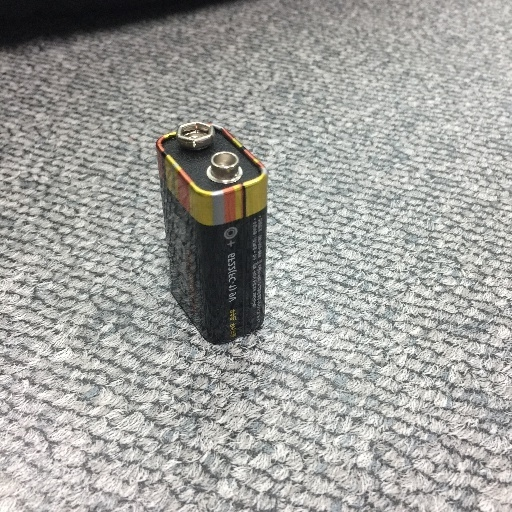Battery_3: (145, 102, 290, 363)
